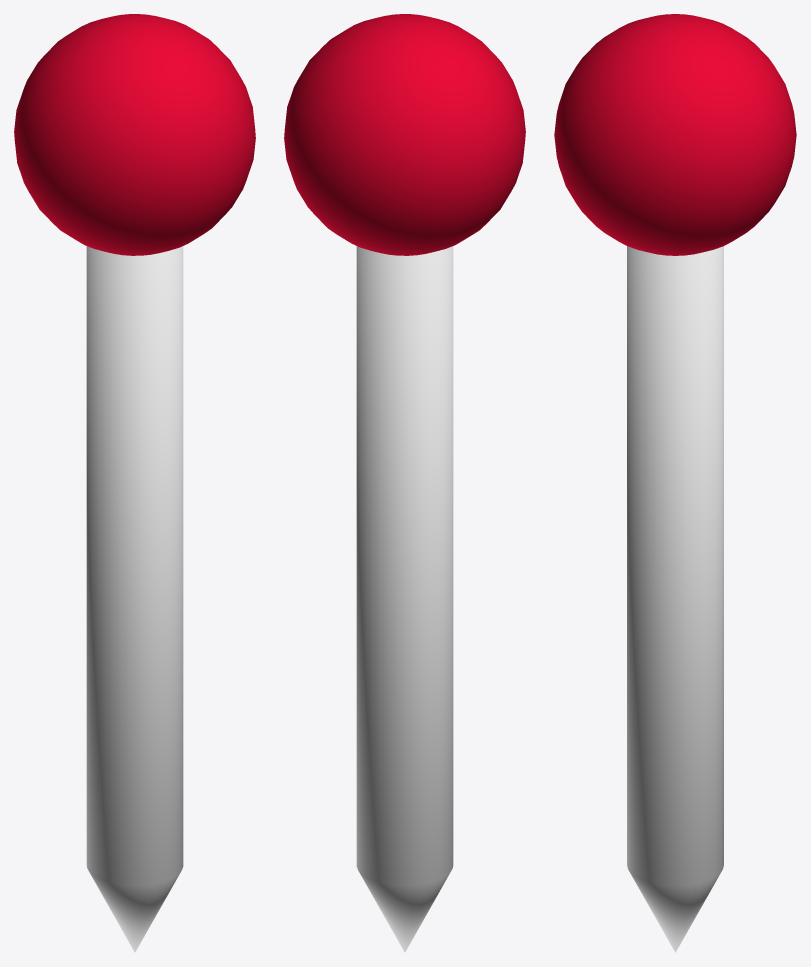
The model's file is asset.glb.
The picture shows the model from 3 angles, left to right: view 1: azimuth 30°, elevation 25°; view 2: azimuth 150°, elevation 25°; view 3: azimuth 270°, elevation 25°; orthographic projection.
Parts seen in each view (by area): view 1: Cone.001; view 2: Cone.001; view 3: Cone.001.
Boxes of the visible parts, box(x1,y1,x2,y2) form: Cone.001: box(14, 14, 255, 952); Cone.001: box(284, 14, 525, 952); Cone.001: box(554, 14, 796, 952).
Size of what is drawn, in the model's own units: 0.0466 by 0.1968 by 0.0466.
